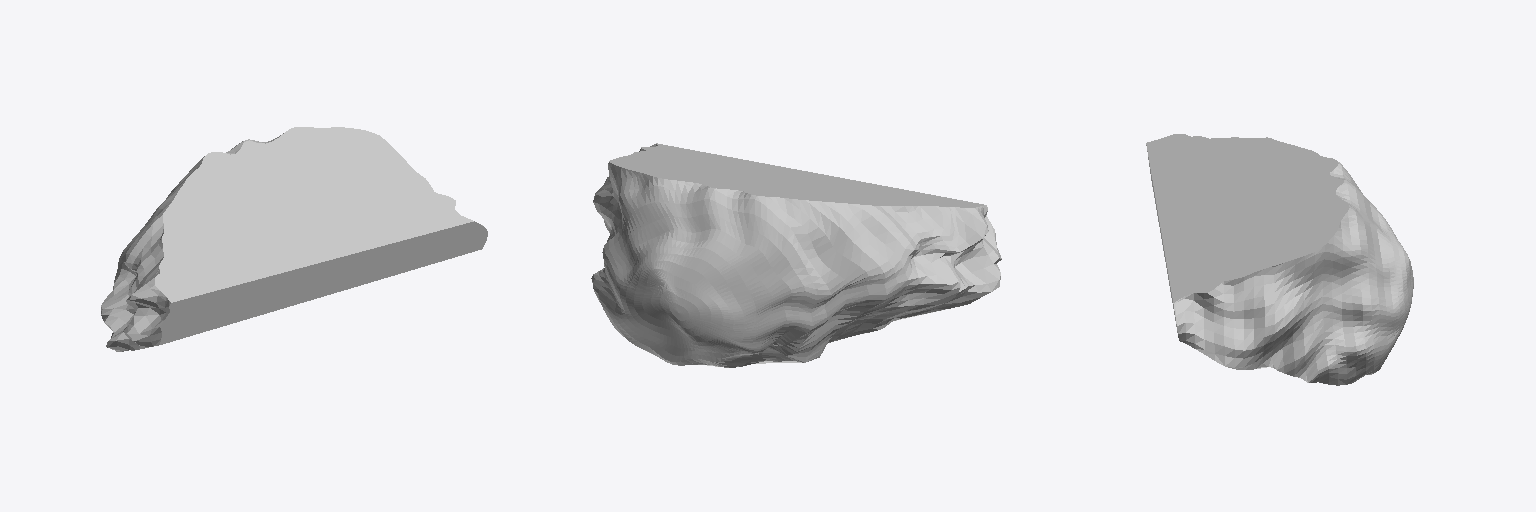
File: Asteroid2fifth2.obj
3 renders of one model, left to right at view 1: azimuth 30°, elevation 25°; view 2: azimuth 150°, elevation 25°; view 3: azimuth 270°, elevation 25°, orthographic.
Visible parts, largest first — view 1: asteroid2; view 2: asteroid2; view 3: asteroid2.
Boxes of the visible parts, x1=… form: asteroid2: x1=101, y1=127, x2=487, y2=351; asteroid2: x1=591, y1=143, x2=1001, y2=367; asteroid2: x1=1146, y1=134, x2=1413, y2=385.
Bounding box in the file's own units: 2.66 × 1.15 × 1.62.